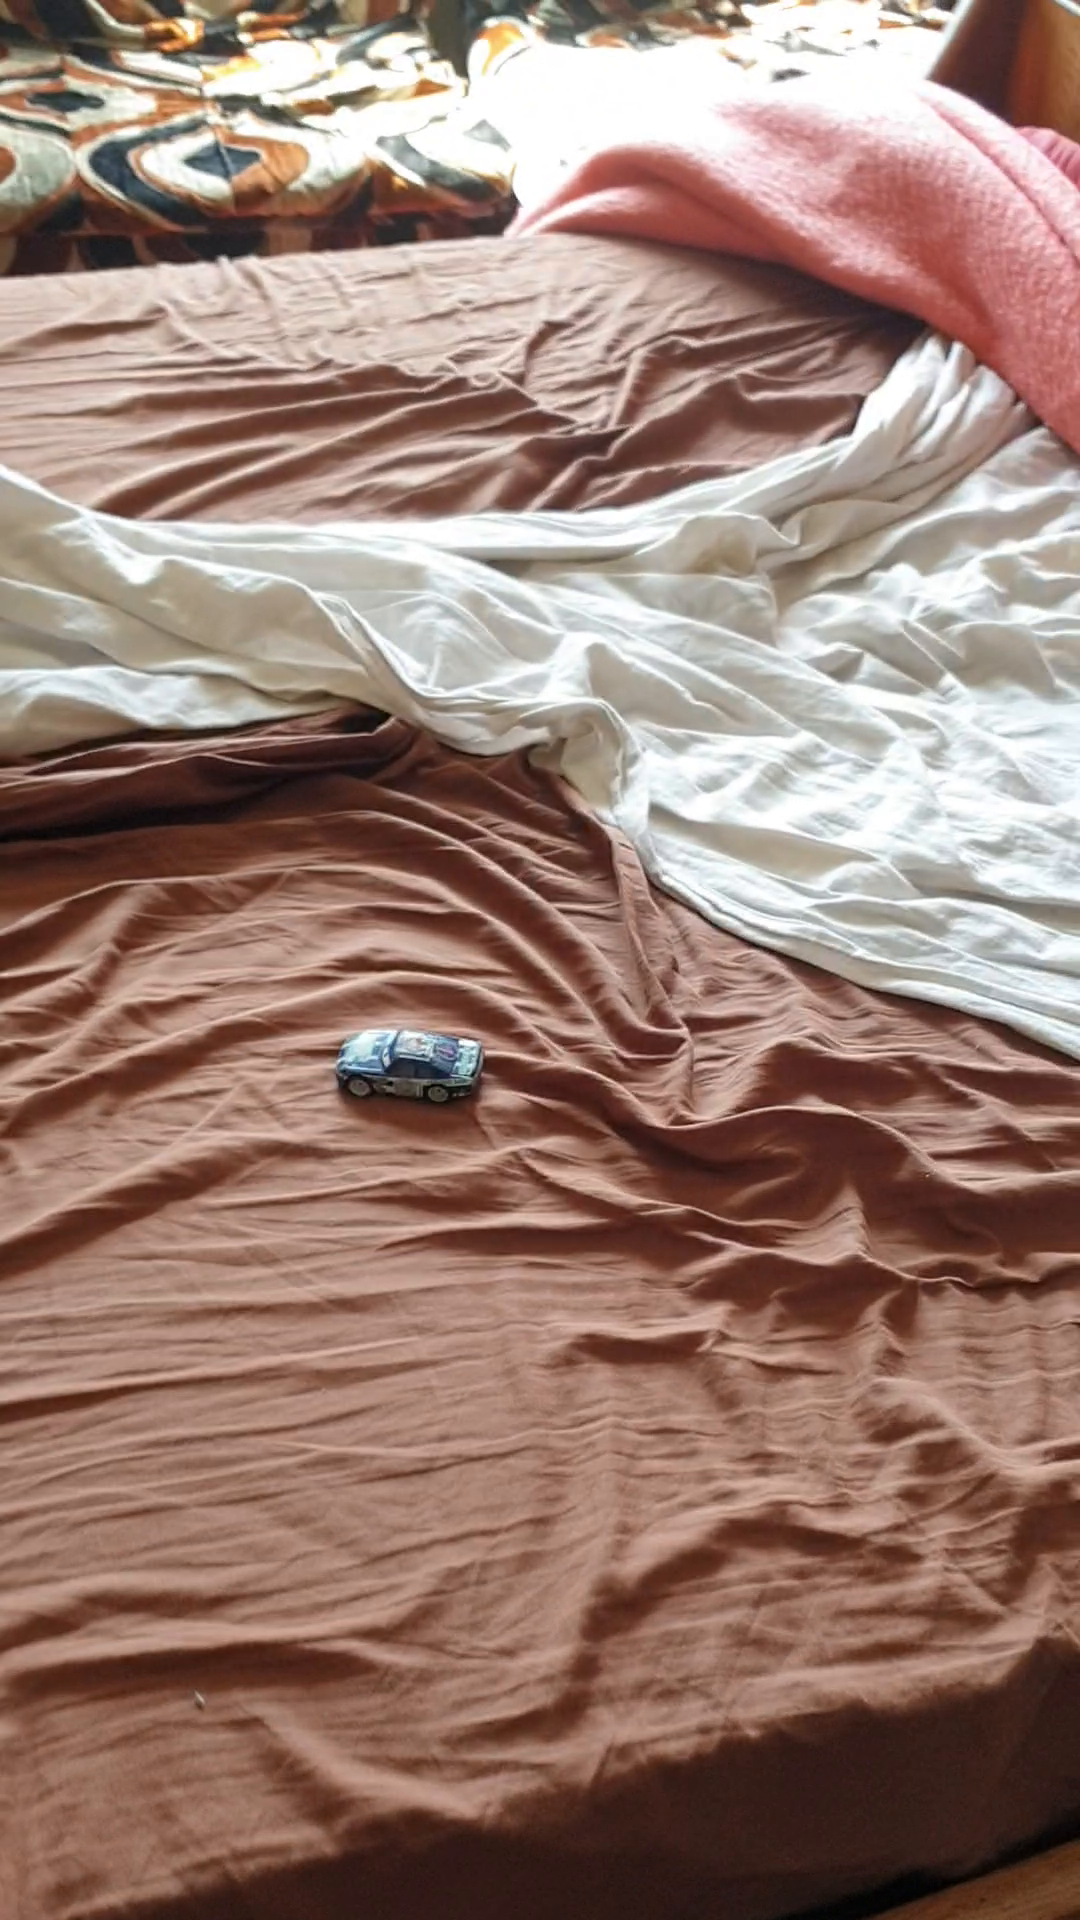cars: (334, 1026, 484, 1104)
